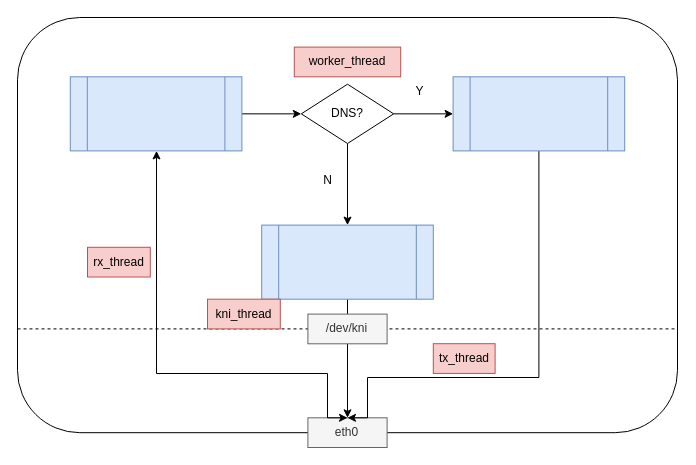
This 696x465 diagram has some shape labels left out. The centre of each missing label's shape, as x and y in pixels:
"kni_ring" goes at pixel 347 261.
"rx_ring" goes at pixel 155 113.
"tx_ring" goes at pixel 538 113.
